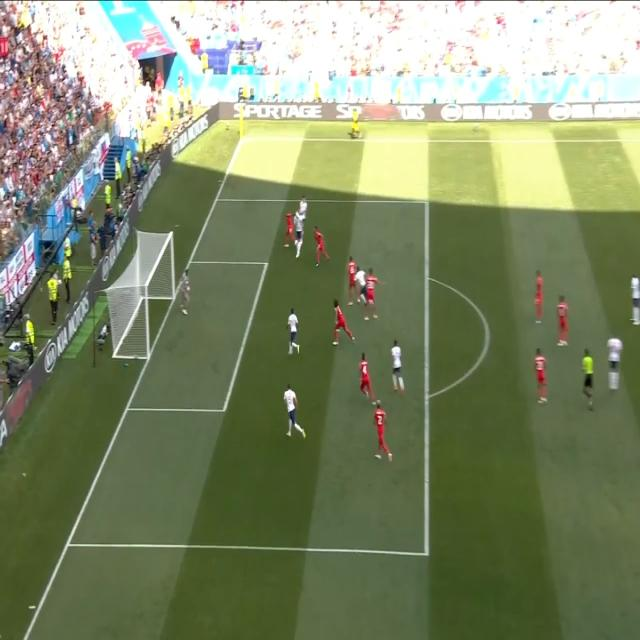player: (282, 382, 309, 440), (371, 401, 394, 466), (529, 344, 551, 410), (332, 291, 356, 349), (605, 329, 623, 397), (312, 220, 332, 272), (357, 346, 375, 402), (285, 300, 302, 358), (366, 264, 382, 325), (390, 338, 406, 394), (556, 290, 570, 350), (533, 265, 545, 331), (630, 270, 640, 330), (284, 207, 294, 255), (346, 255, 356, 302), (295, 210, 304, 262), (357, 264, 366, 309), (298, 194, 306, 213)
